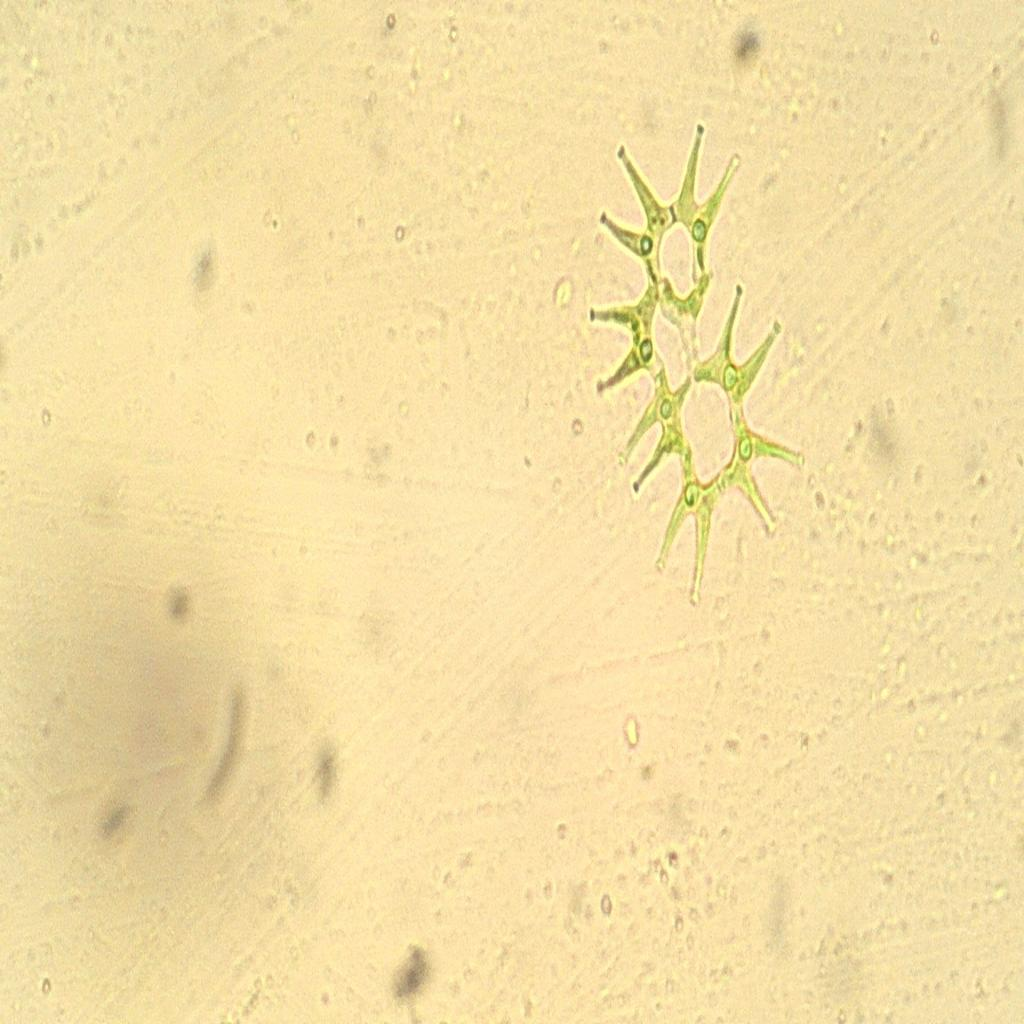Pediastrum_CFI: (584, 102, 814, 617)
